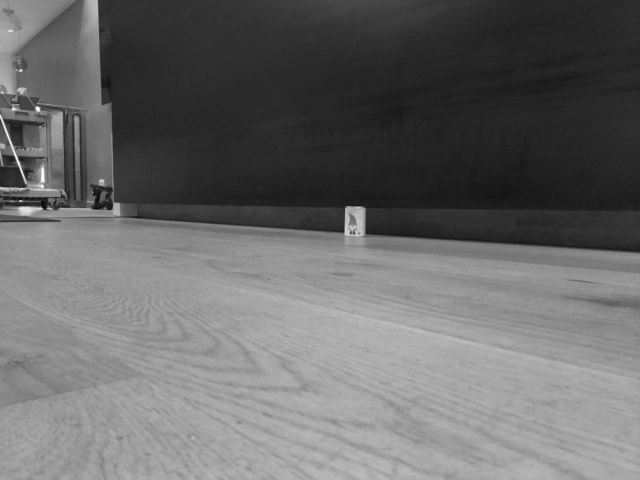gnome: (345, 212, 362, 235)
